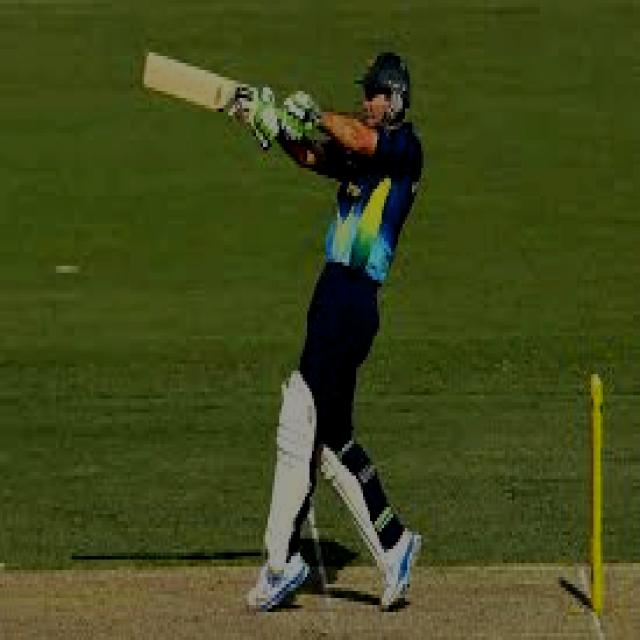toe: (137, 51, 154, 91)
